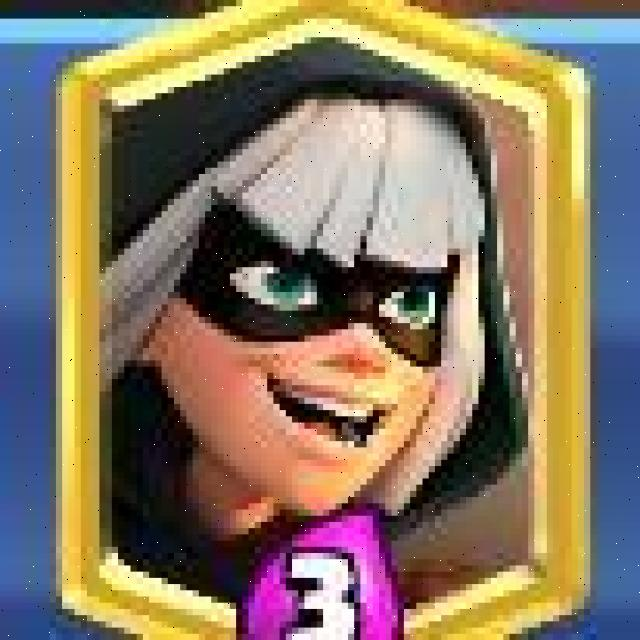Bandit: (48, 0, 597, 640)
